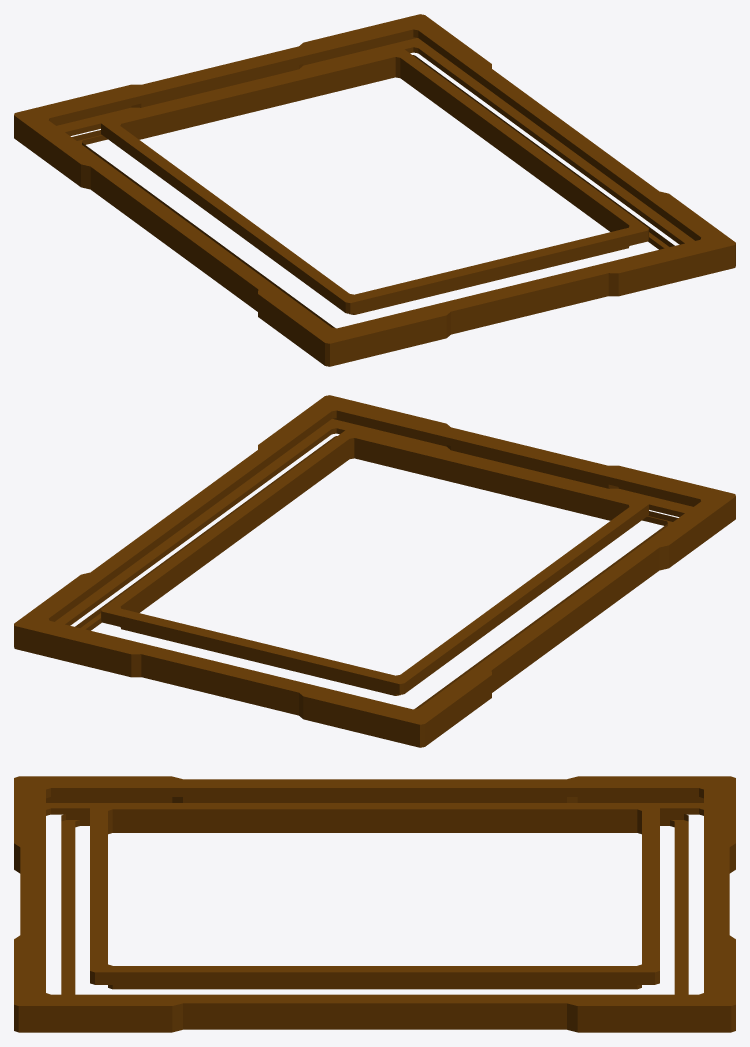
The model's file is Card_Frame01.fbx.
The picture shows the model from 3 angles, top to bottom: view 1: azimuth 30°, elevation 25°; view 2: azimuth 150°, elevation 25°; view 3: azimuth 270°, elevation 25°; orthographic projection. The views are drawn at different scales.
Parts seen in each view (by area): view 1: Card_Frame; view 2: Card_Frame; view 3: Card_Frame.
Part boxes in pixels (x1,y1,x2,y2): Card_Frame: (14, 14, 735, 366); Card_Frame: (14, 395, 735, 747); Card_Frame: (14, 776, 735, 1032).
Bounding box in the file's own units: 1.5 × 0.0918 × 2.
